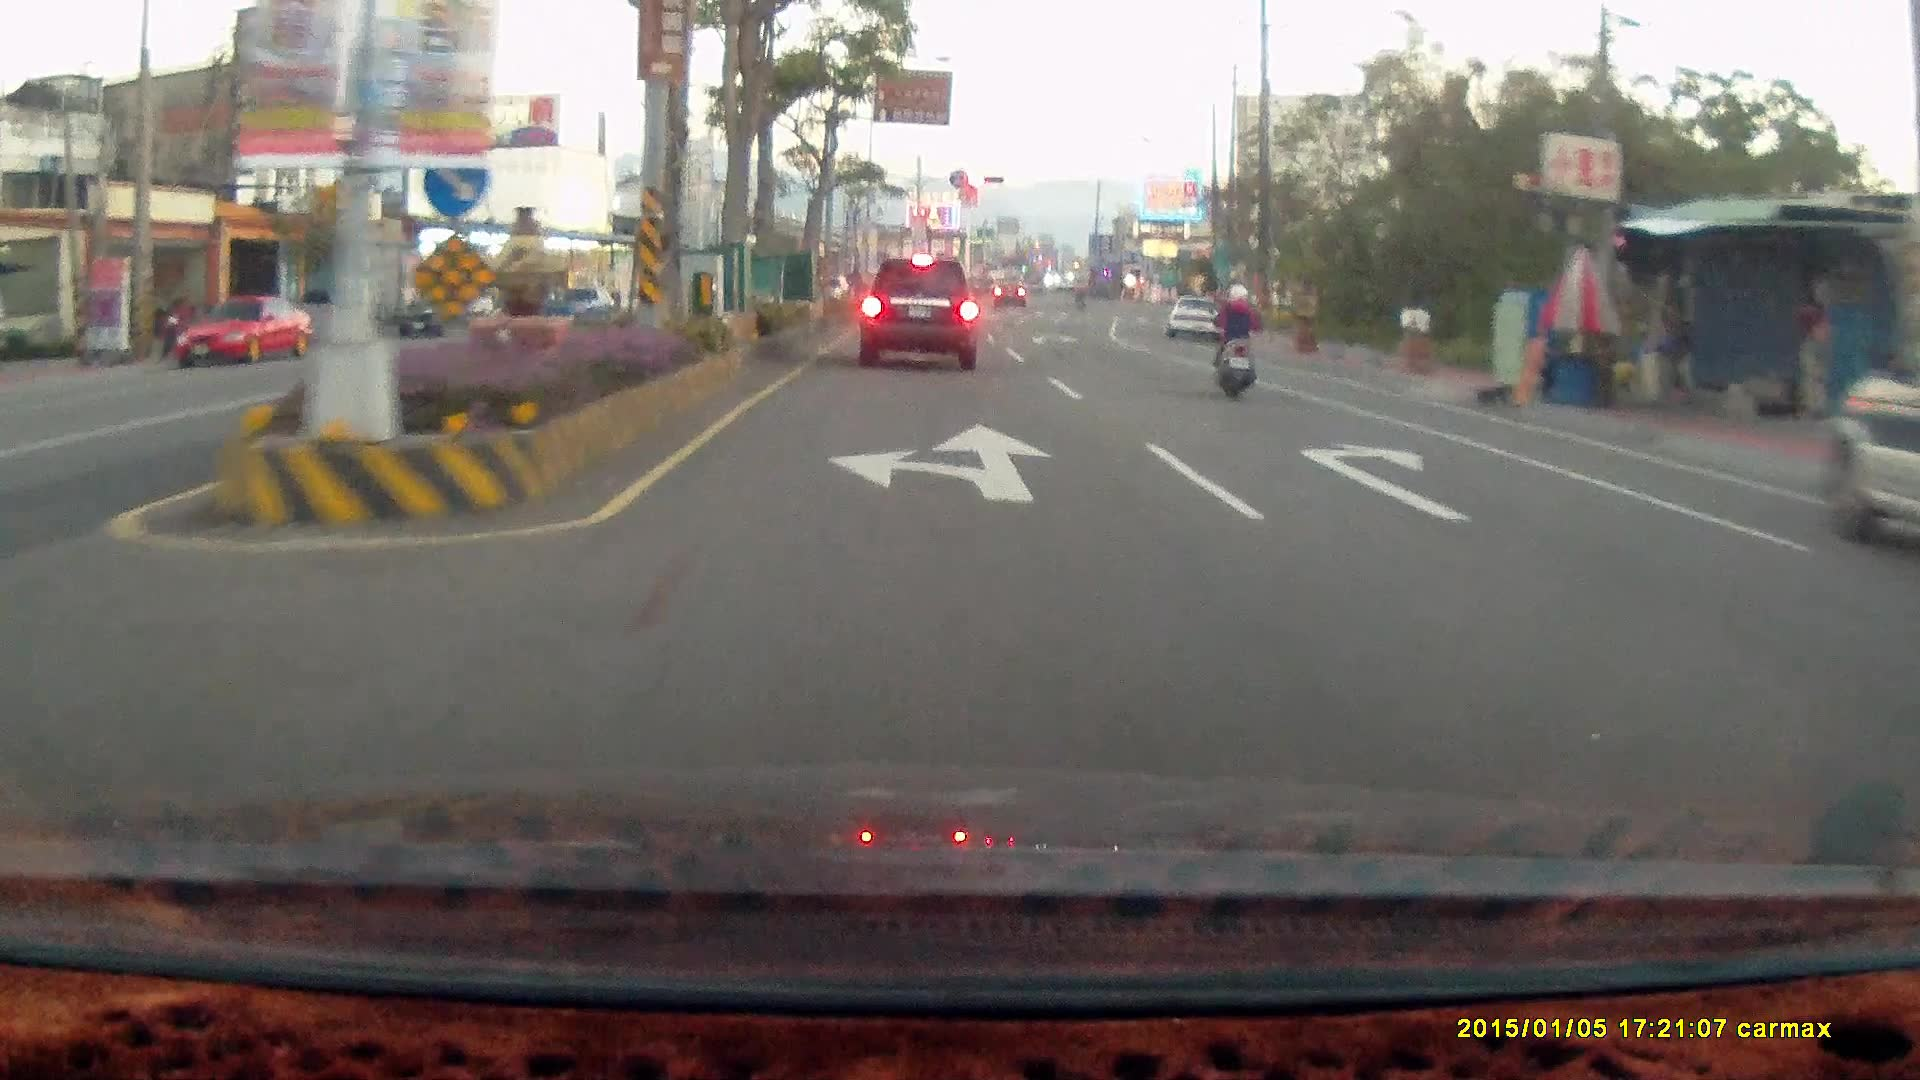rider: (1208, 280, 1256, 401)
vehicle: (1826, 278, 1920, 565), (859, 256, 975, 370), (170, 292, 314, 366), (1896, 493, 1920, 836), (1883, 528, 1920, 690), (402, 294, 504, 342), (1166, 295, 1226, 345)
